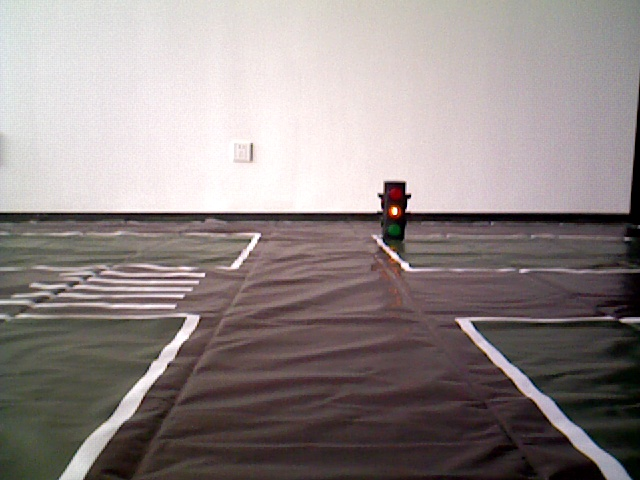yellow: (376, 176, 410, 249)
